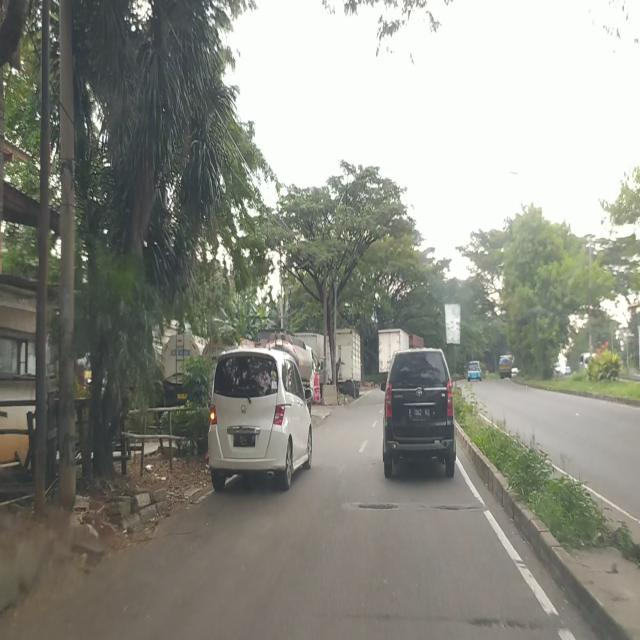Sewer Cover: (323, 606, 541, 632), (356, 501, 477, 512)
